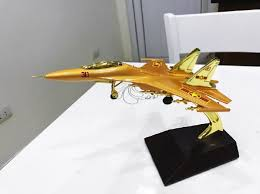maybay_muctieu: (43, 43, 241, 116)
